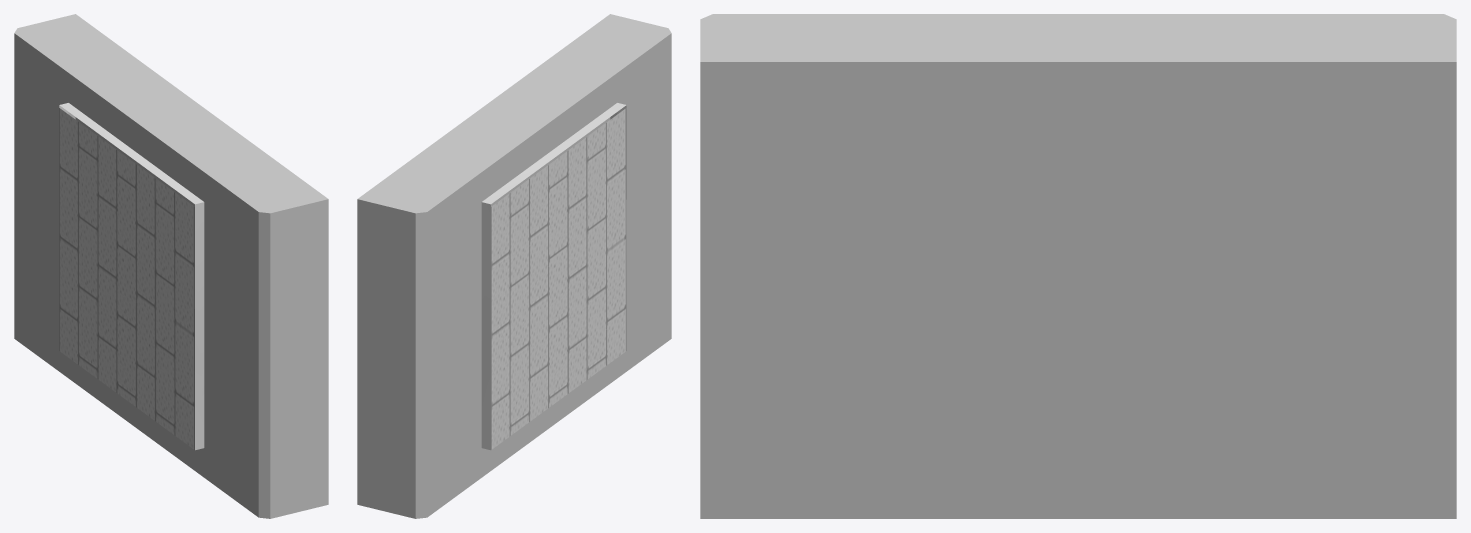
The model's file is Exit_Sign.fbx.
3 views of the same model, side by side, from view 1: azimuth 30°, elevation 25°; view 2: azimuth 150°, elevation 25°; view 3: azimuth 270°, elevation 25° (orthographic). The views are drawn at different scales.
Parts seen in each view (by area): view 1: Cube.006; view 2: Cube.006; view 3: Cube.006.
Part boxes in pixels (x1=…): Cube.006: x1=14, y1=14, x2=328, y2=518; Cube.006: x1=357, y1=14, x2=671, y2=518; Cube.006: x1=700, y1=14, x2=1456, y2=518.
Size of the model in its own units: 10.28 by 40 by 60.
